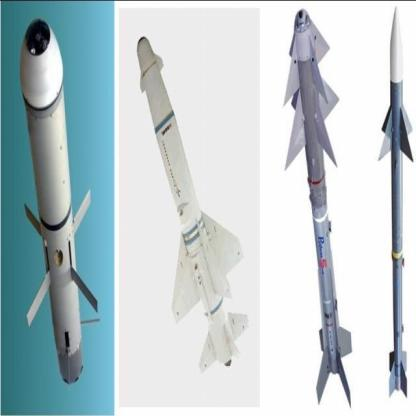MIL_TBM: (10, 24, 107, 400)
